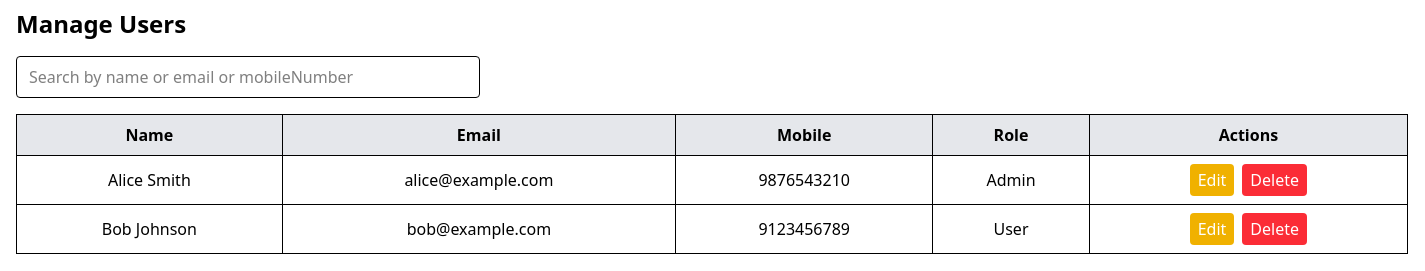
ManageUsers component › filters users by search input
Expected: the text "Alice Smith" is shown, [16,156,282,204]
Type "bob" into the field with placeholder "Search by name or email or mobileNumber" at (248, 77), box [16,56,480,98]
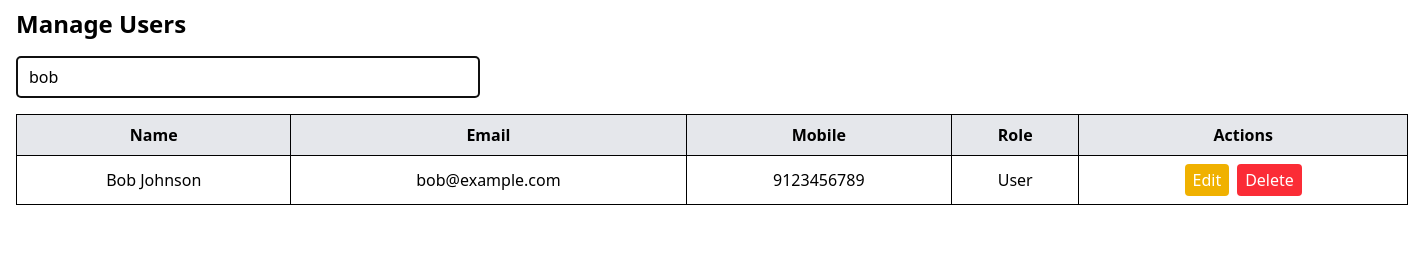
Expected: the text "Bob Johnson" is shown, [16,156,291,204]
Now the text "Alice Smith" is gone
